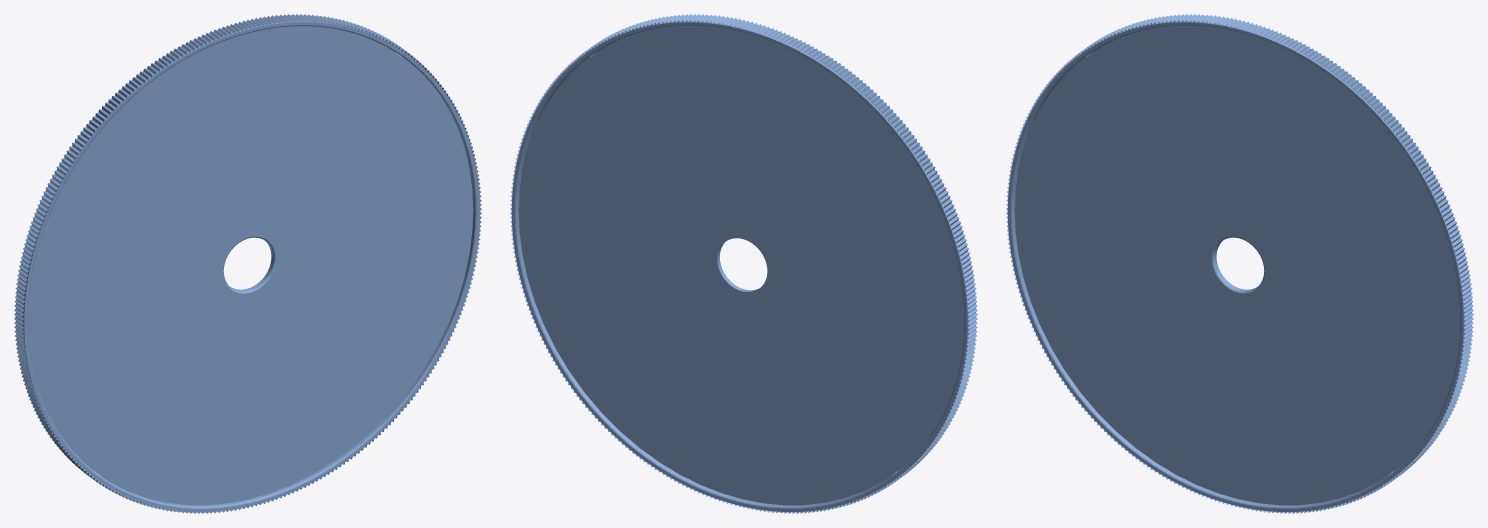
The model's file is DiscGear.glb.
The picture shows the model from 3 angles, left to right: view 1: azimuth 30°, elevation 25°; view 2: azimuth 150°, elevation 25°; view 3: azimuth 330°, elevation 25°; orthographic projection.
Parts seen in each view (by area): view 1: DiscGear; view 2: DiscGear; view 3: DiscGear.
Part boxes in pixels (x1,y1,x2,y2): DiscGear: (14, 14, 481, 513); DiscGear: (510, 14, 977, 513); DiscGear: (1006, 14, 1473, 513).
Size of the model in its own units: 25.78 by 25.78 by 0.8277.
